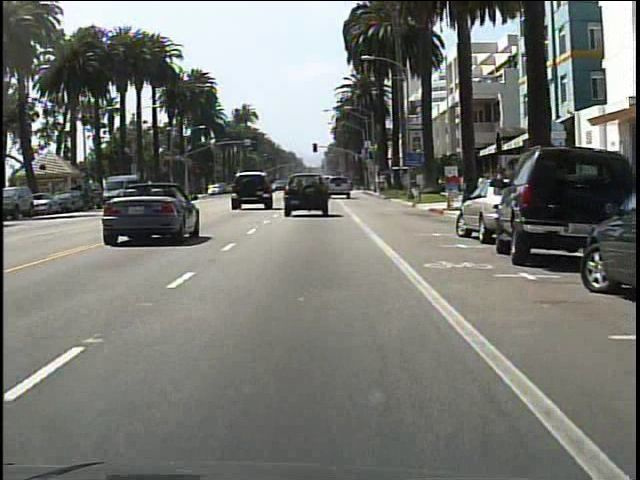person: (81, 178, 96, 213)
